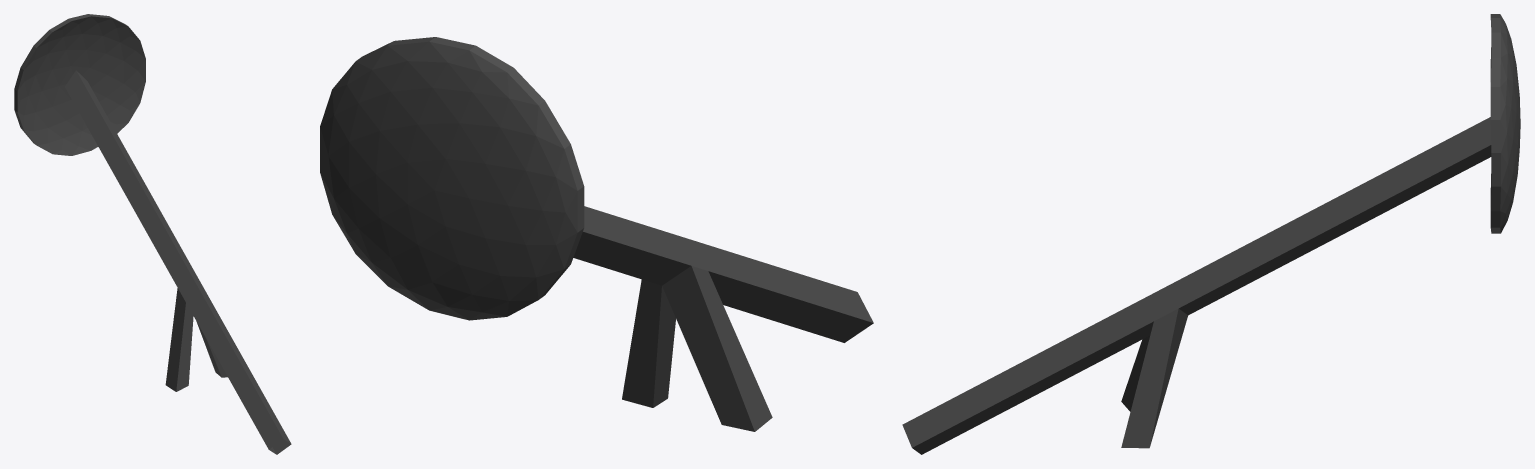
The model's file is ph_lander_leg.sturdy.gltf.
3 views of the same model, side by side, from view 1: azimuth 30°, elevation 25°; view 2: azimuth 150°, elevation 25°; view 3: azimuth 270°, elevation 25° (orthographic). The views are drawn at different scales.
Visible parts, largest first — view 1: landerleg; view 2: landerleg; view 3: landerleg.
Part boxes in pixels (left/top/right/bottom): landerleg: left=14, top=14, right=291, bottom=454; landerleg: left=320, top=37, right=873, bottom=431; landerleg: left=902, top=14, right=1520, bottom=454.
Size of the model in its own units: 0.9499 by 2.07 by 2.71.
Materials: 1 (1 with a texture image).
